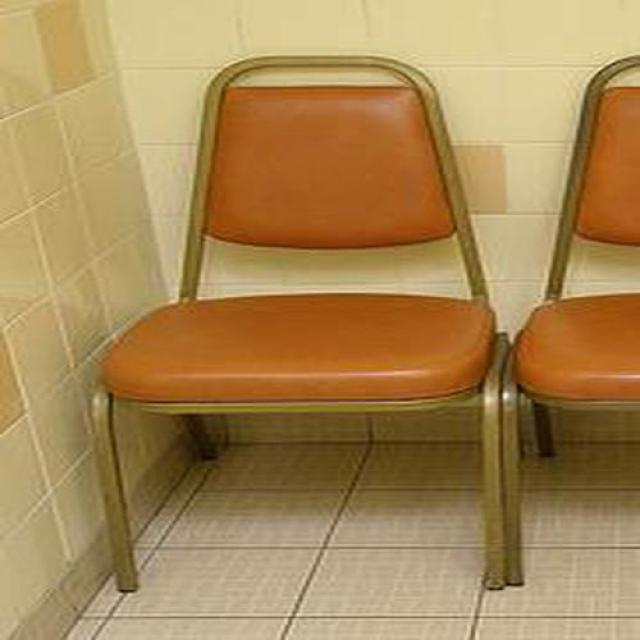chair: (92, 56, 500, 594)
